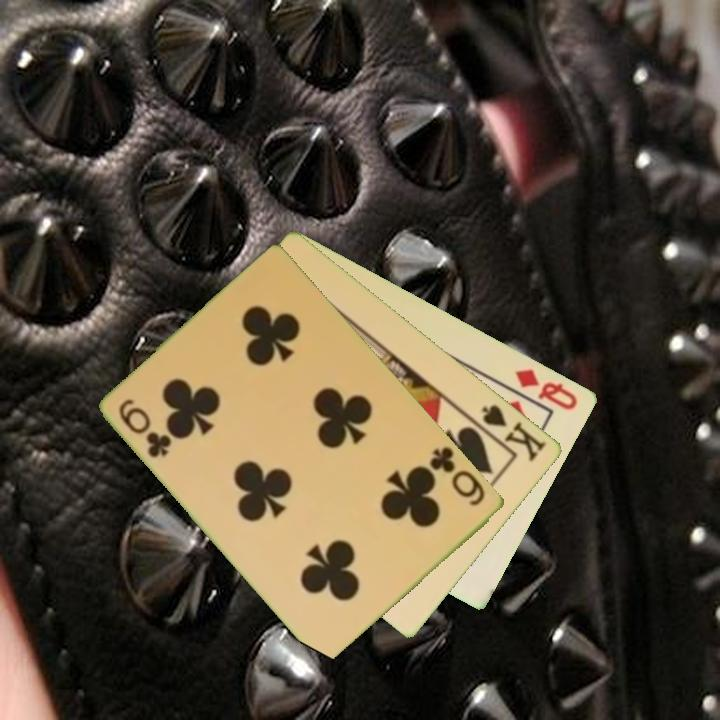6c: (426, 443, 489, 510), (115, 395, 175, 461)
Ks: (470, 400, 550, 464)
Qd: (512, 365, 581, 413)
